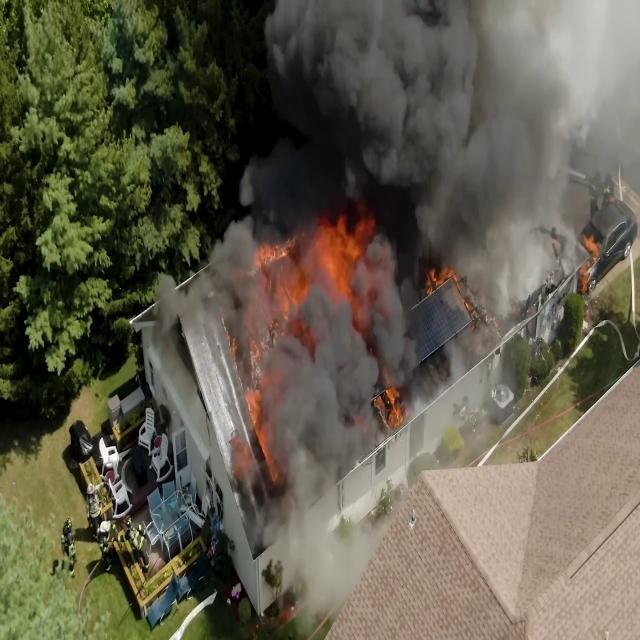Fire: (251, 214, 365, 315)
Smoke: (431, 0, 569, 276), (273, 0, 478, 184)
